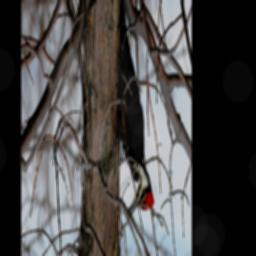Woodpecker: (115, 0, 154, 218)
